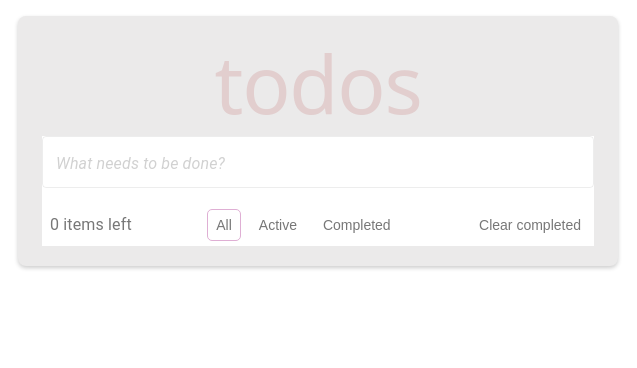
добавление новой задачи
This screenshot has width=637, height=368.
Type "Тестовое задание" into the field labelled "What needs to be done?" at (318, 162), box [42,136,594,188]
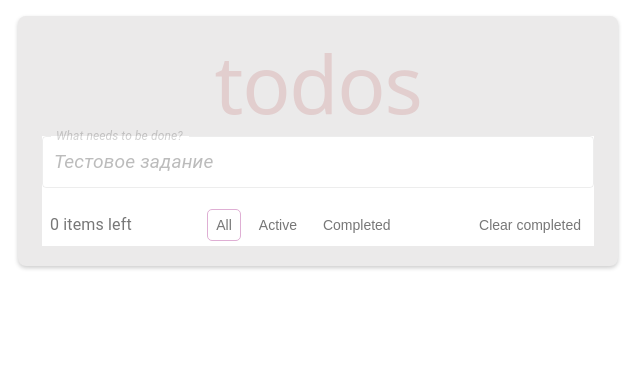
Submit the form from the field labelled "What needs to be done?", box [42,136,594,188]
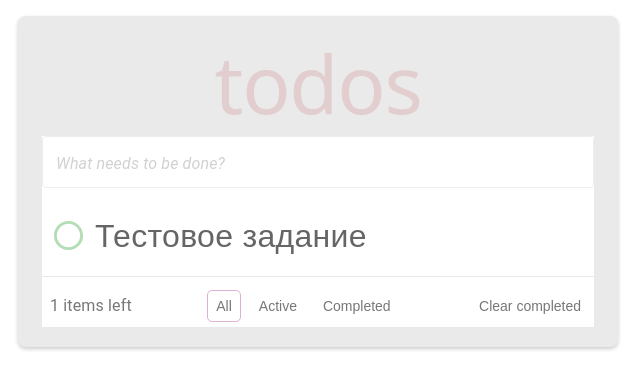
Check: the text "Тестовое задание" is shown, box [95,218,367,254]
